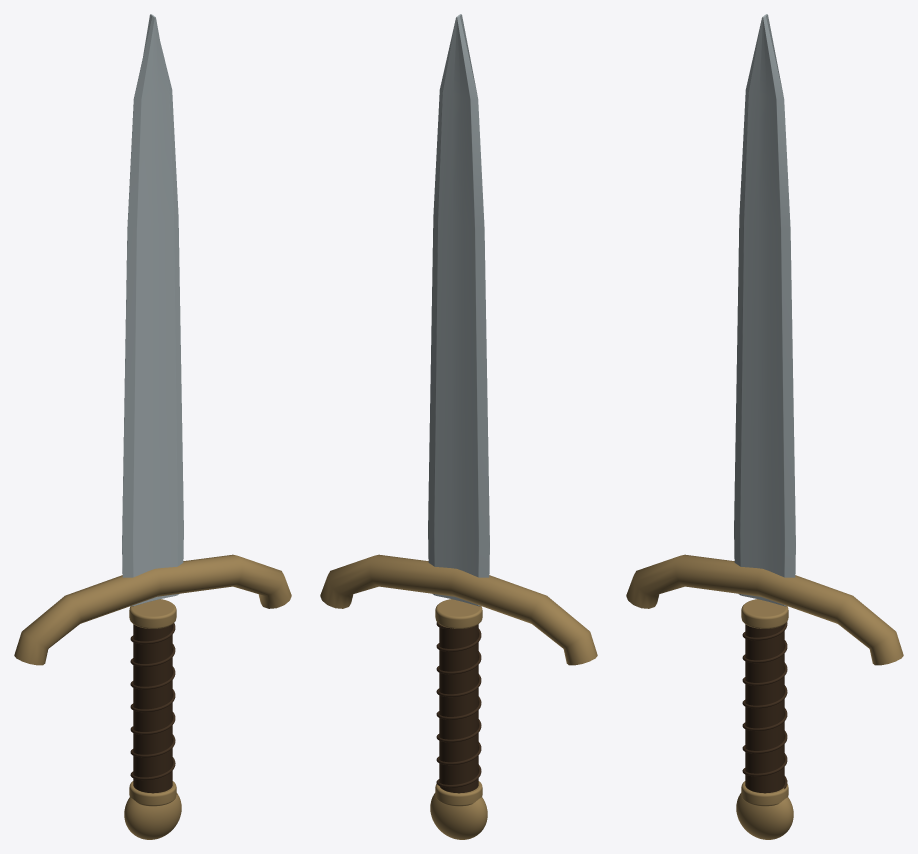
Rendered from kokiri_sword.glb.
The picture shows the model from 3 angles, left to right: view 1: azimuth 30°, elevation 25°; view 2: azimuth 150°, elevation 25°; view 3: azimuth 330°, elevation 25°; orthographic projection.
Parts seen in each view (by area): view 1: Tapered steel with recessed fuller, Swept bronze crossguard, Leather grip core, Oval pommel, Spiral grip binding, Grip collar.001, Grip collar; view 2: Tapered steel with recessed fuller, Swept bronze crossguard, Leather grip core, Oval pommel, Spiral grip binding, Grip collar.001, Grip collar; view 3: Tapered steel with recessed fuller, Swept bronze crossguard, Leather grip core, Oval pommel, Spiral grip binding, Grip collar.001, Grip collar.
Part boxes in pixels (<box>): Tapered steel with recessed fuller: <box>122,14,183,606</box>; Swept bronze crossguard: <box>14,554,291,665</box>; Leather grip core: <box>133,624,172,793</box>; Oval pommel: <box>124,793,181,839</box>; Spiral grip binding: <box>130,623,175,780</box>; Grip collar.001: <box>129,599,176,628</box>; Grip collar: <box>129,781,176,806</box>; Tapered steel with recessed fuller: <box>428,14,489,606</box>; Swept bronze crossguard: <box>320,554,597,665</box>; Leather grip core: <box>439,624,478,793</box>; Oval pommel: <box>430,793,487,839</box>; Spiral grip binding: <box>436,622,481,787</box>; Grip collar.001: <box>435,599,482,628</box>; Grip collar: <box>435,781,482,806</box>; Tapered steel with recessed fuller: <box>734,14,795,606</box>; Swept bronze crossguard: <box>626,554,903,665</box>; Leather grip core: <box>745,624,784,793</box>; Oval pommel: <box>736,793,793,839</box>; Spiral grip binding: <box>742,622,787,788</box>; Grip collar.001: <box>741,599,788,628</box>; Grip collar: <box>741,781,788,806</box>.
Size of the model in its own units: 0.2548 by 0.733 by 0.038.
